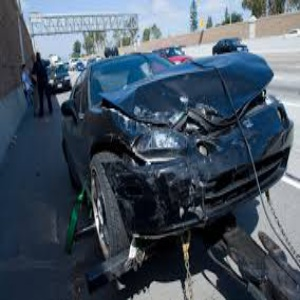bonnet: (126, 46, 275, 125)
bumper: (102, 139, 273, 234)
